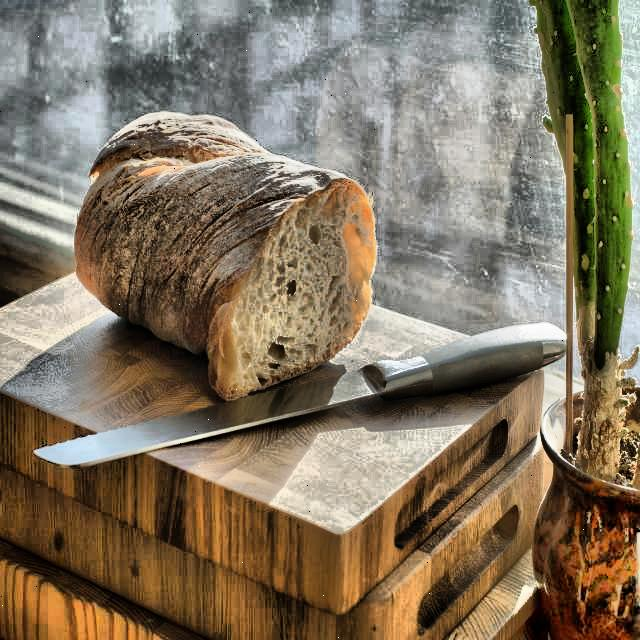knife: (37, 326, 561, 476)
